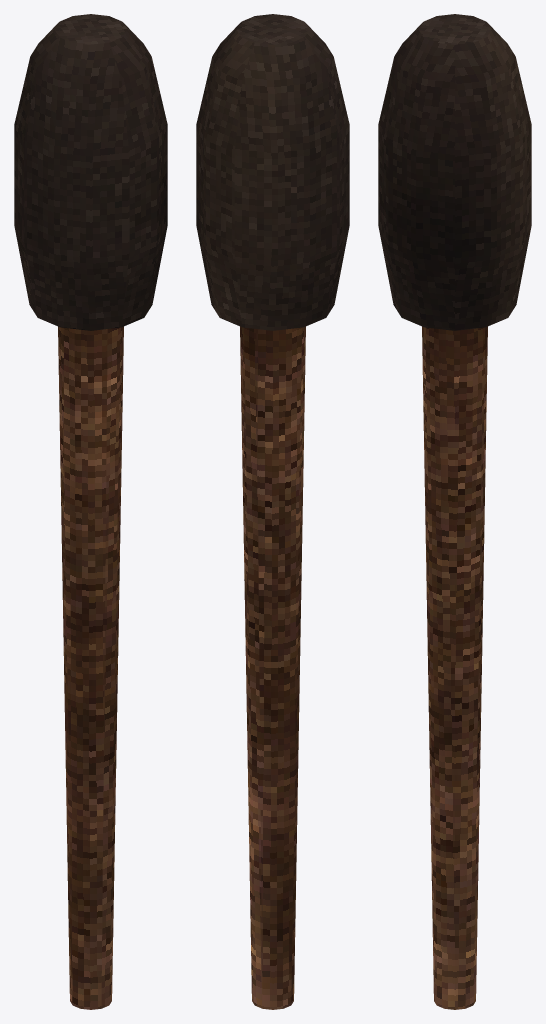
The model's file is Torch_1.gltf.
The picture shows the model from 3 angles, left to right: view 1: azimuth 30°, elevation 25°; view 2: azimuth 150°, elevation 25°; view 3: azimuth 270°, elevation 25°; orthographic projection.
Visible parts, largest first — view 1: Torch_1; view 2: Torch_1; view 3: Torch_1.
Boxes of the visible parts, <box> form: Torch_1: <box>14,14,167,1009</box>; Torch_1: <box>196,14,349,1009</box>; Torch_1: <box>378,14,531,1009</box>.
Bounding box in the file's own units: 0.6359 × 4.44 × 0.6359.
Materials: 1 (1 with a texture image).
